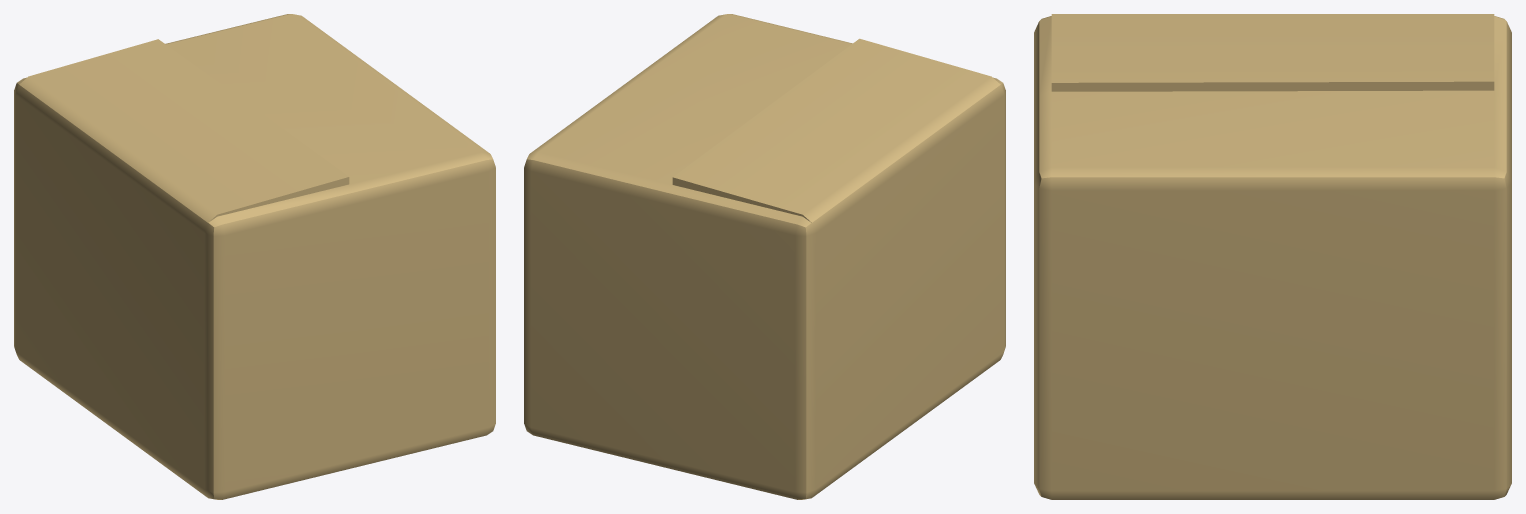
Rendered from moving box 2.fbx.
3 views of the same model, side by side, from view 1: azimuth 30°, elevation 25°; view 2: azimuth 150°, elevation 25°; view 3: azimuth 270°, elevation 25° (orthographic). The views are drawn at different scales.
Visible parts, largest first — view 1: pCube57; view 2: pCube57; view 3: pCube57.
Boxes of the visible parts, x1,y1,x2,y2 form: pCube57: [14, 14, 495, 499]; pCube57: [524, 14, 1005, 499]; pCube57: [1034, 14, 1511, 499].
Bounding box in the file's own units: 0.7416 × 0.711 × 0.9028.
